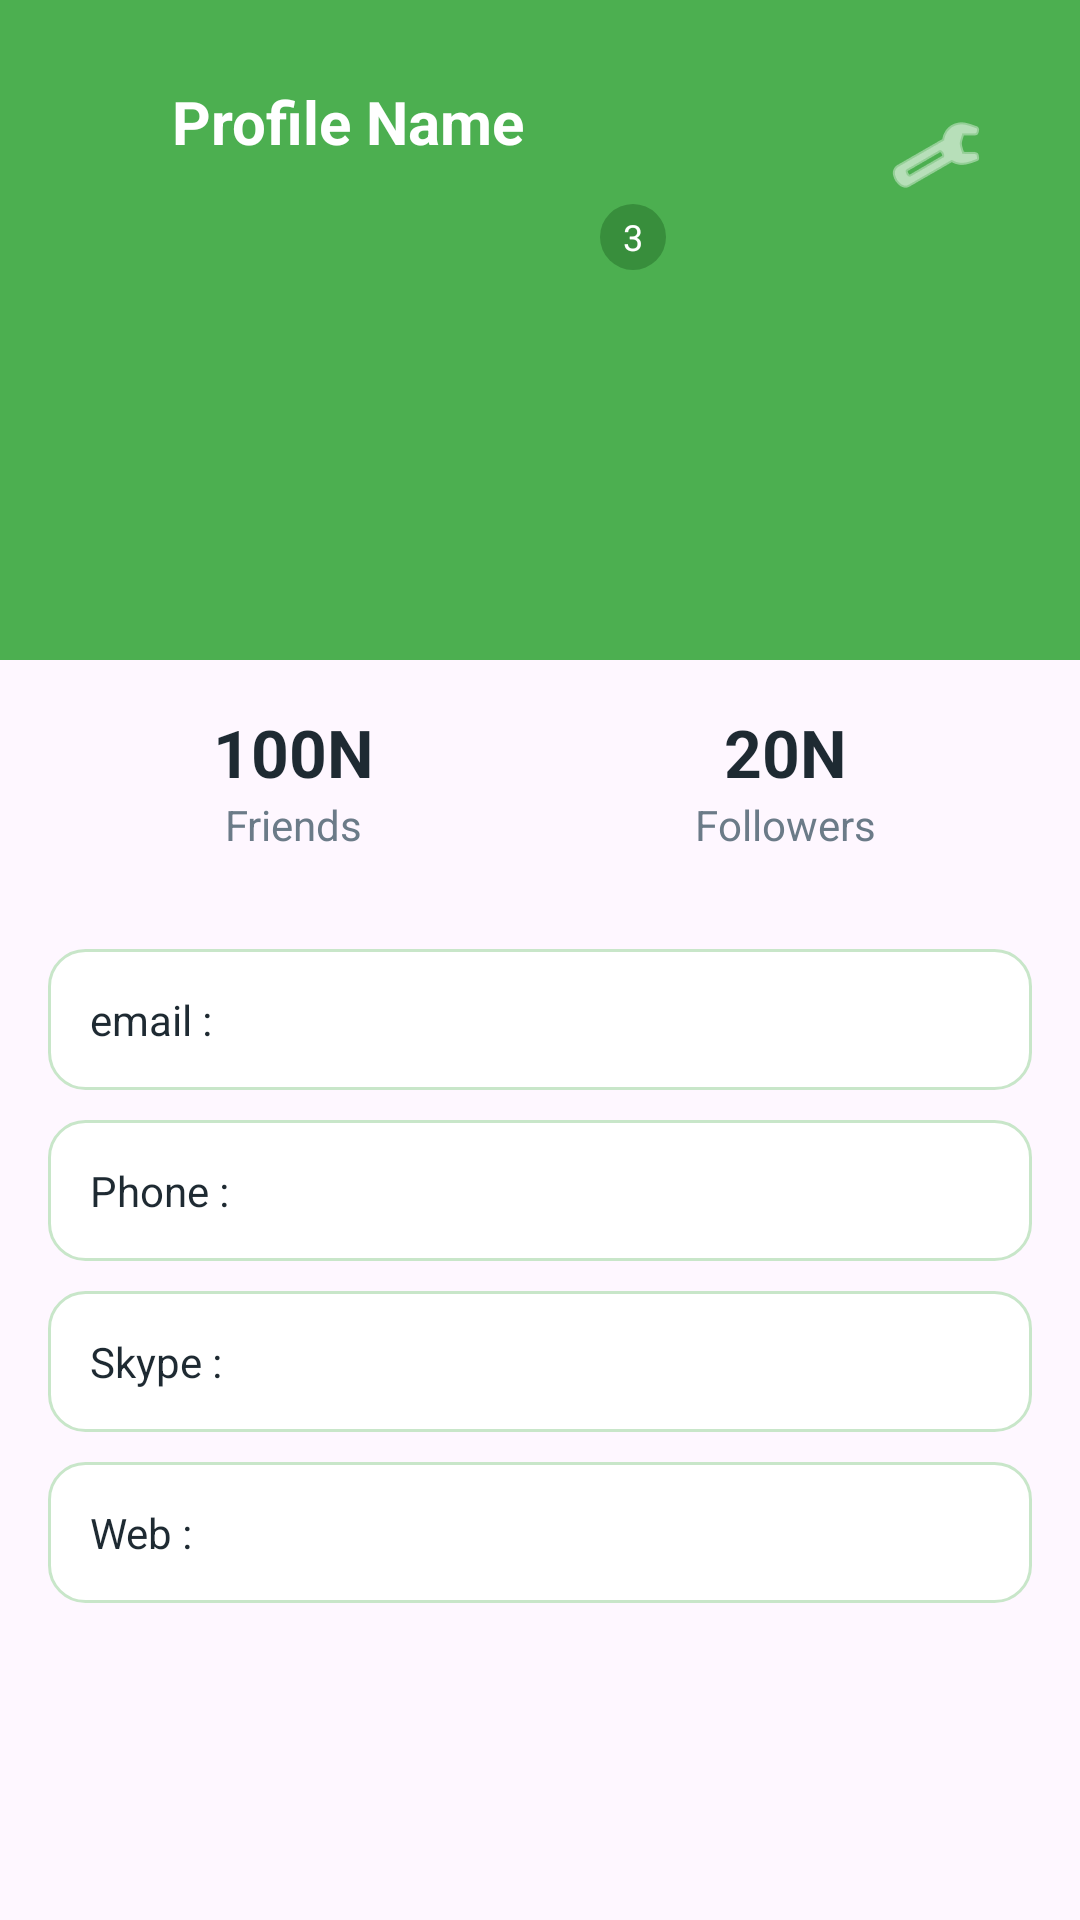

Named icons in this screenshot (1080×1920) and their centers, (x=x, y=y):
Setting: (x=936, y=155)
